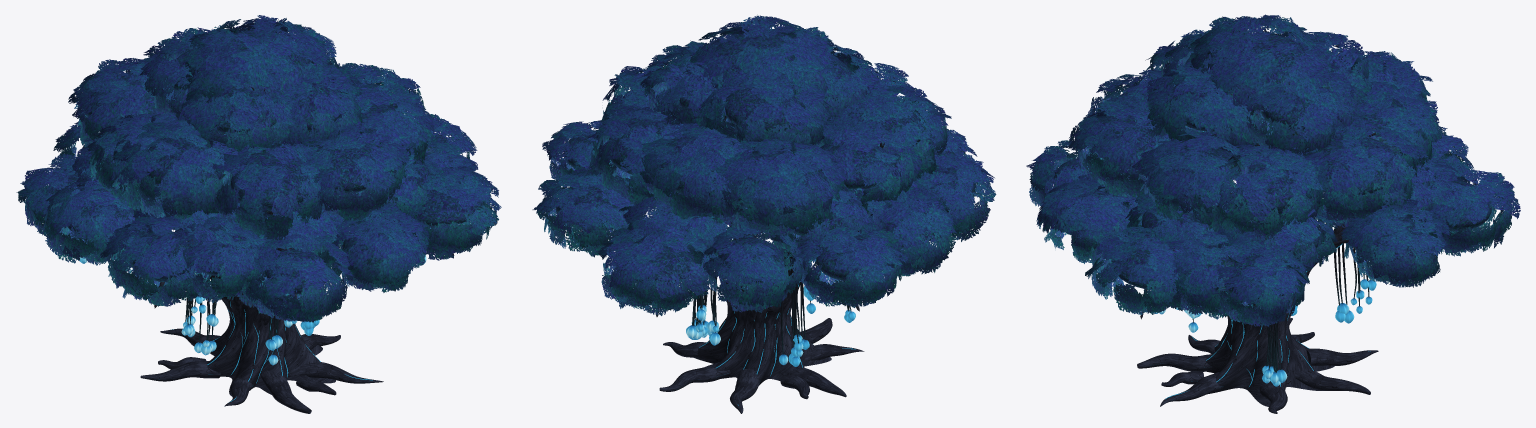
The model's file is veil_tree.glb.
The picture shows the model from 3 angles, left to right: view 1: azimuth 30°, elevation 25°; view 2: azimuth 150°, elevation 25°; view 3: azimuth 270°, elevation 25°; orthographic projection.
Visible parts, largest first — view 1: Leaves, Trunk, Glow_Pods, Strands, Limbs, Glow_Veins; view 2: Leaves, Trunk, Glow_Pods, Strands, Limbs; view 3: Leaves, Trunk, Glow_Pods, Strands.
Boxes of the visible parts, bbox=[...] form: Leaves: bbox=[16, 15, 501, 322]; Trunk: bbox=[140, 297, 383, 413]; Glow_Pods: bbox=[79, 255, 426, 365]; Strands: bbox=[185, 233, 415, 354]; Limbs: bbox=[103, 82, 454, 325]; Glow_Veins: bbox=[171, 301, 372, 401]; Leaves: bbox=[532, 15, 996, 315]; Trunk: bbox=[659, 282, 864, 413]; Glow_Pods: bbox=[686, 286, 855, 366]; Strands: bbox=[692, 261, 851, 354]; Limbs: bbox=[656, 84, 951, 325]; Leaves: bbox=[1026, 14, 1520, 327]; Trunk: bbox=[1137, 296, 1378, 413]; Glow_Pods: bbox=[1154, 279, 1376, 386]; Strands: bbox=[1192, 243, 1370, 372].
Bounding box in the file's own units: 104 × 83.06 × 106.
Materials: 3 (3 with a texture image).
